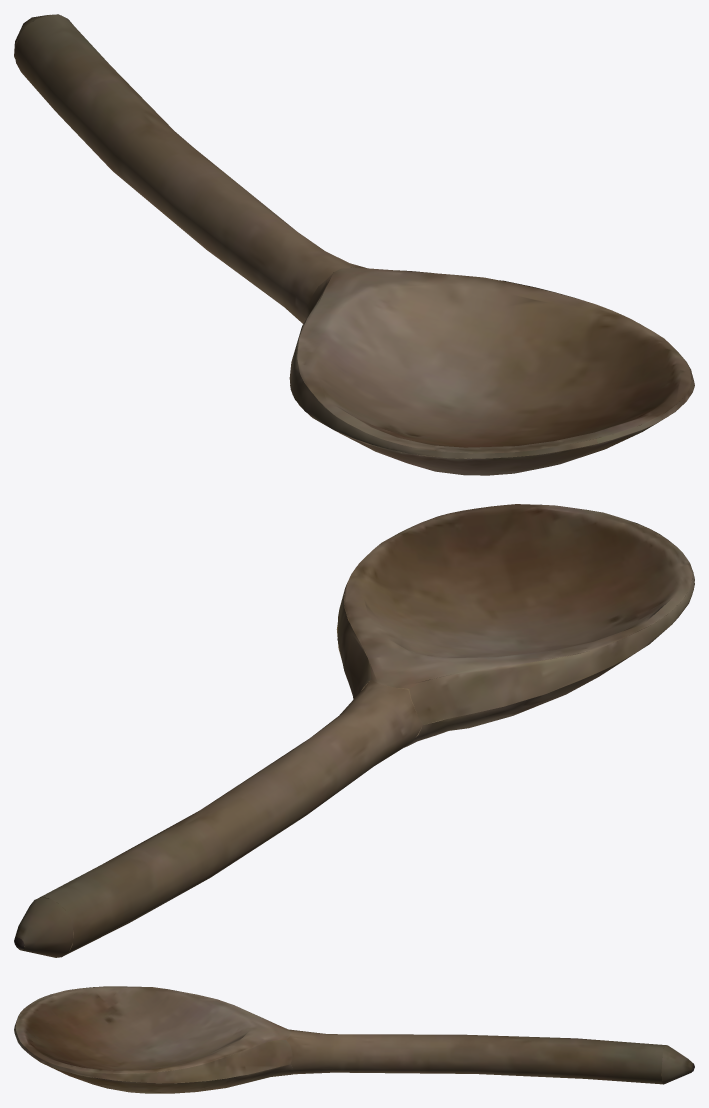
File: wooden_spoon.glb
3 views of the same model, one above another, from view 1: azimuth 30°, elevation 25°; view 2: azimuth 150°, elevation 25°; view 3: azimuth 270°, elevation 25° (orthographic). The views are drawn at different scales.
Visible parts, largest first — view 1: wooden_spoon; view 2: wooden_spoon; view 3: wooden_spoon.
Part boxes in pixels (x1=…): wooden_spoon: x1=14, y1=14, x2=694, y2=475; wooden_spoon: x1=14, y1=504, x2=694, y2=957; wooden_spoon: x1=14, y1=986, x2=694, y2=1093.
Size of the model in its own units: 0.0867 by 0.0251 by 0.2777.
Materials: 1 (1 with a texture image).
